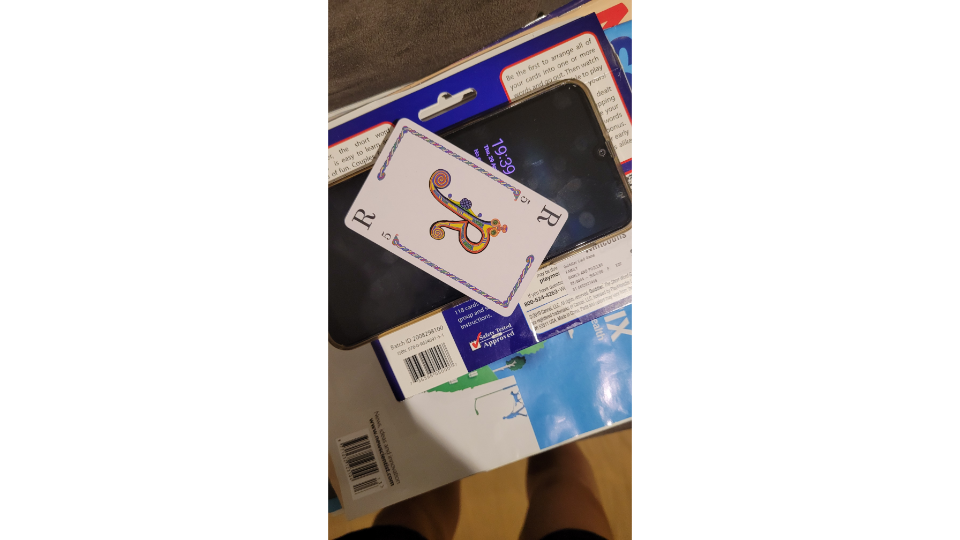R: (342, 112, 572, 319)
